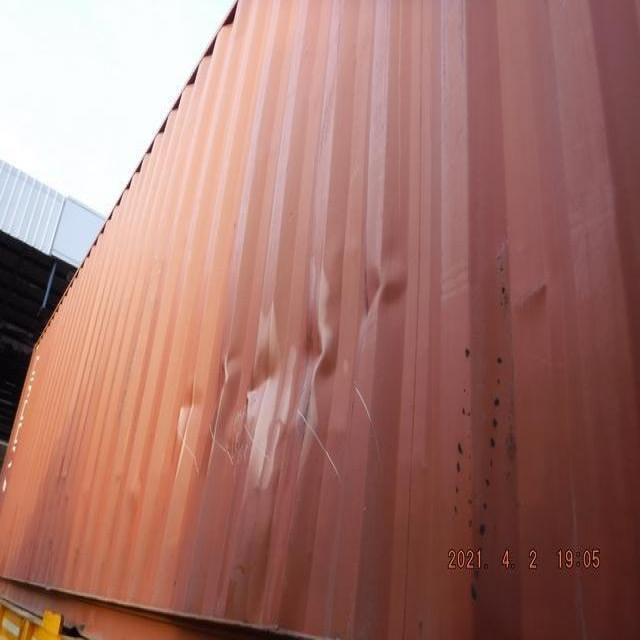dent: (158, 236, 419, 492)
